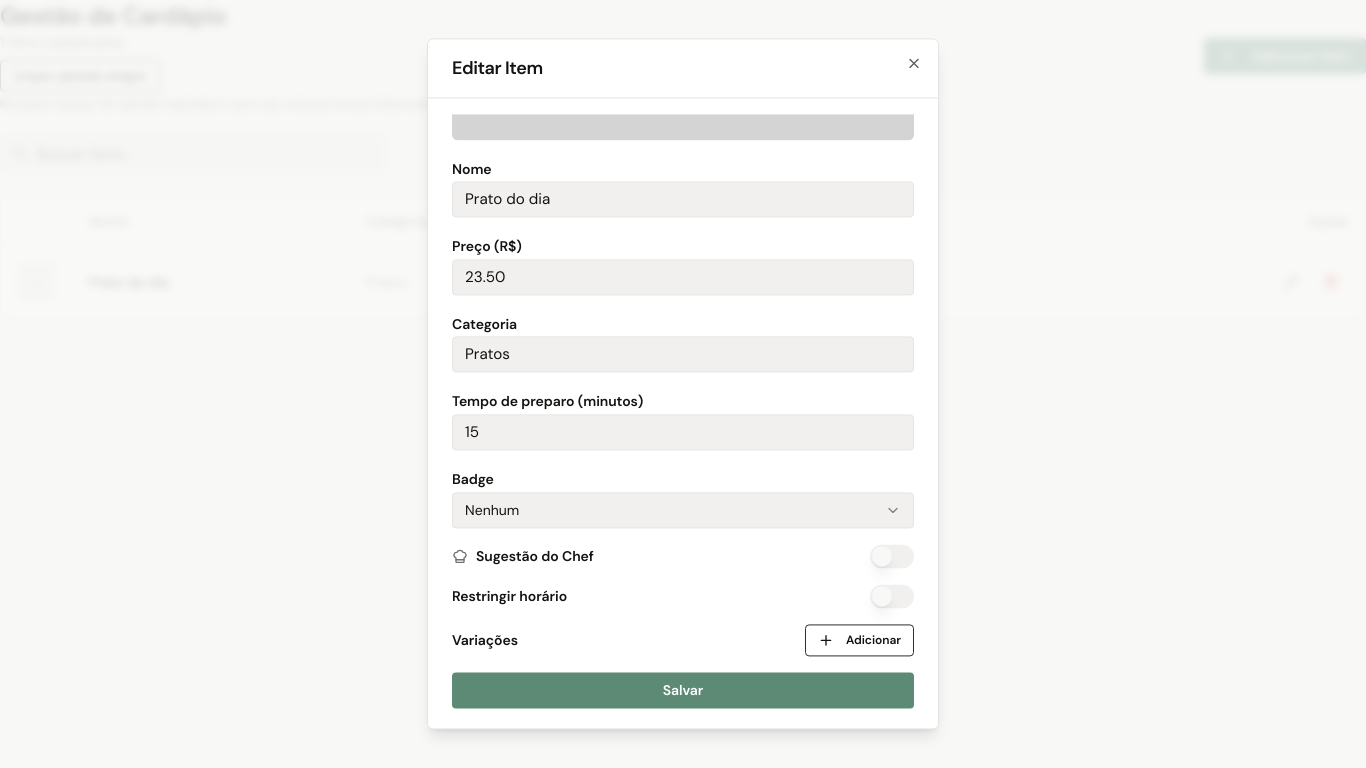
Test: owner menu receipt and image ordering integration, reader=true › reuses the file upload lease after a lost descriptor response
Earlier steps of the test are not shown.
(page scrolled)
What coordinates should you click on to do the following:
click the button "Salvar"
I would click on:
 (683, 690)
Its box is [452,672,914,708].
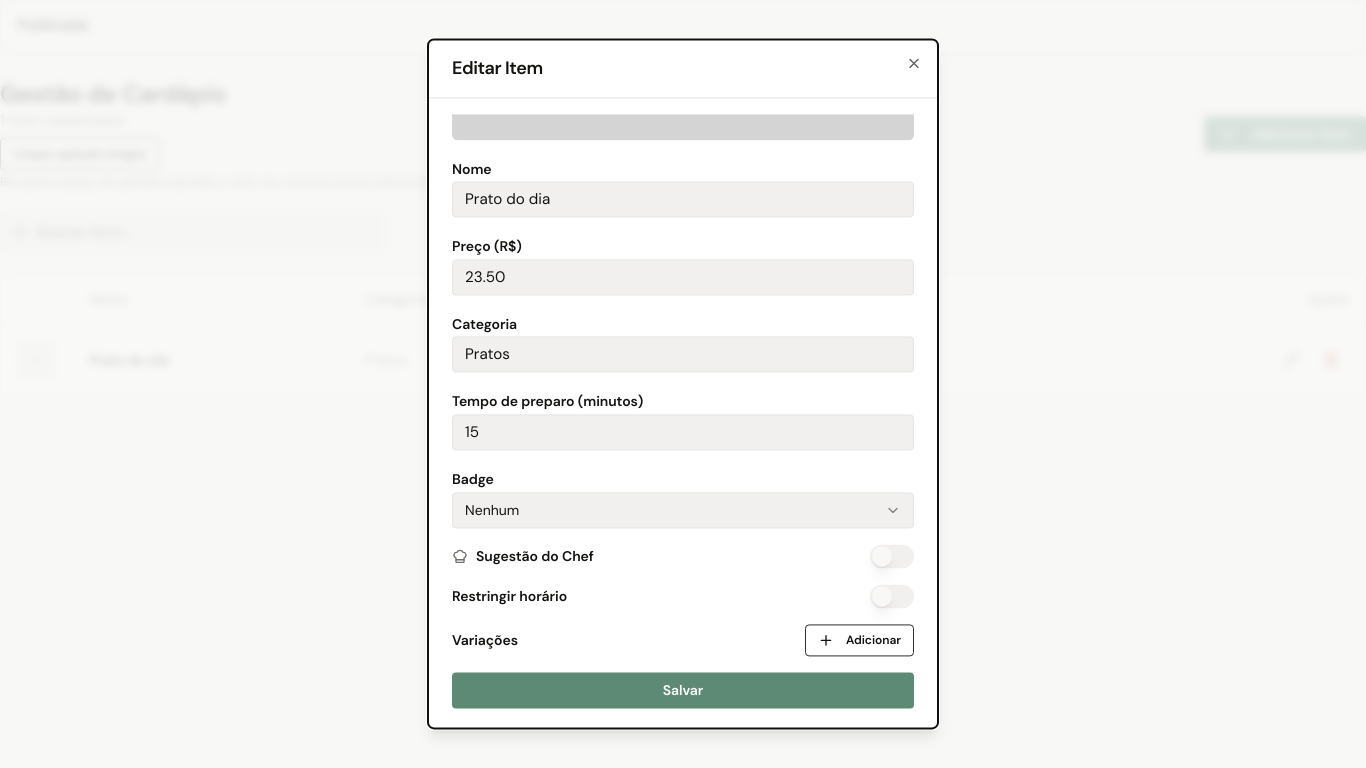
What coordinates should you click on to do the following:
click the button "Salvar"
I would click on:
 (683, 690)
Its box is [452,672,914,708].
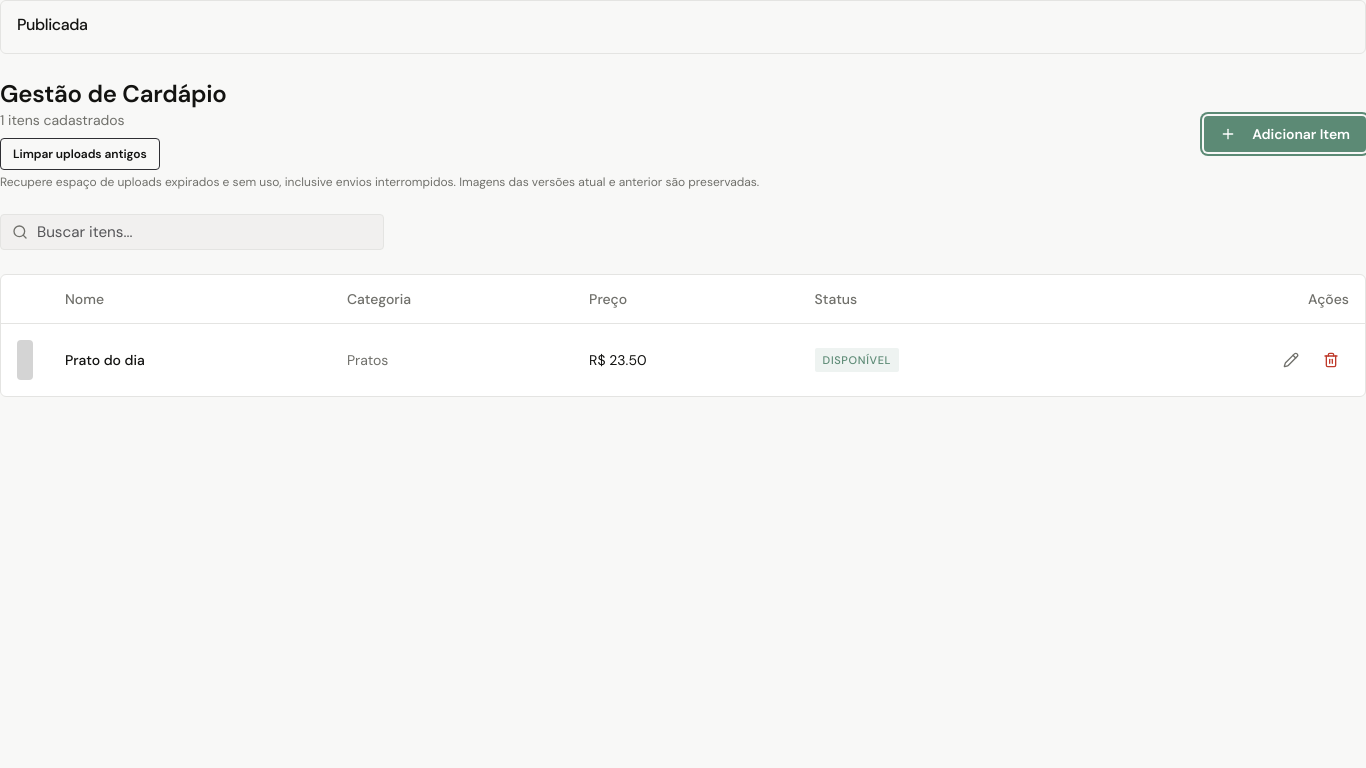
Check: the button "Salvar" is gone
